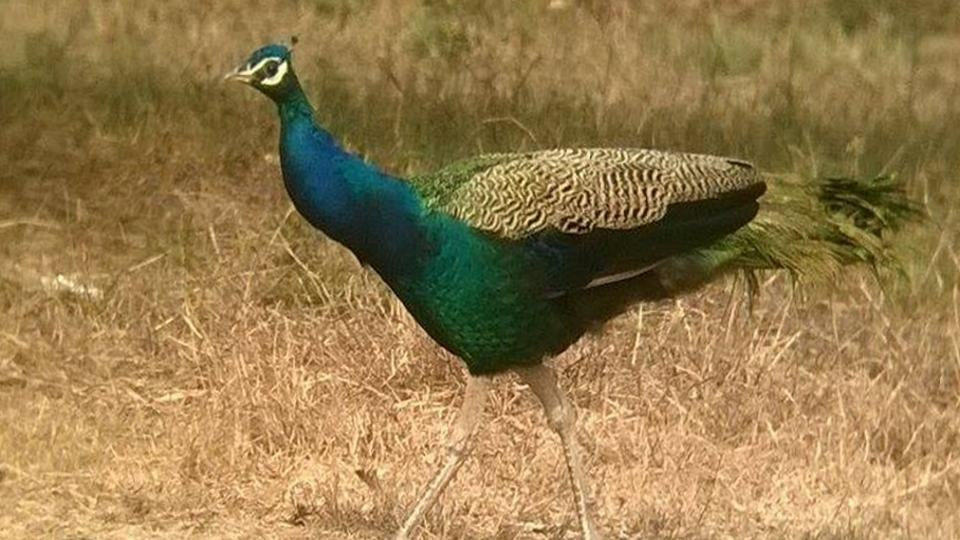peacock: (201, 35, 849, 539)
